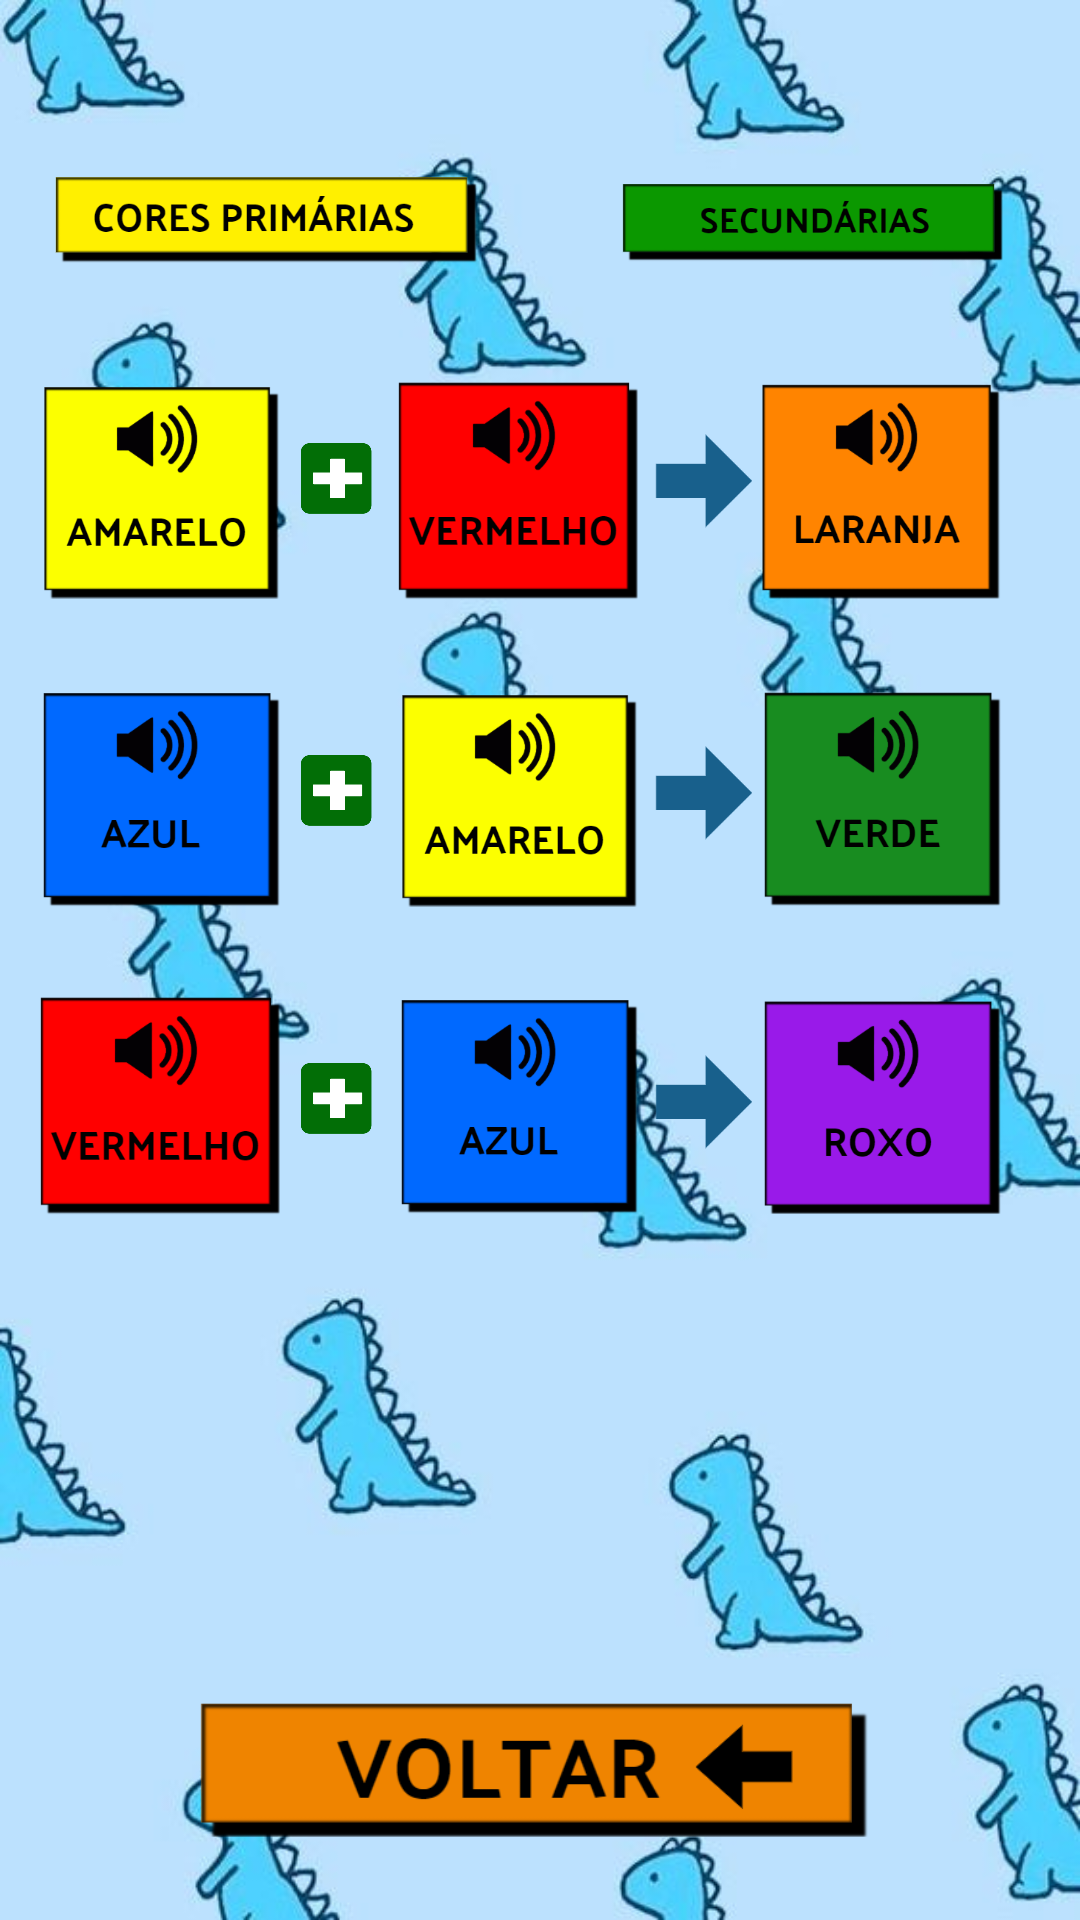

Named icons in this screenshot (1080×1920) and their bounding boxes, (x1, y1, x2, y2):
setaazul: (656, 434, 752, 528), (656, 746, 752, 840), (638, 1049, 752, 1162)
